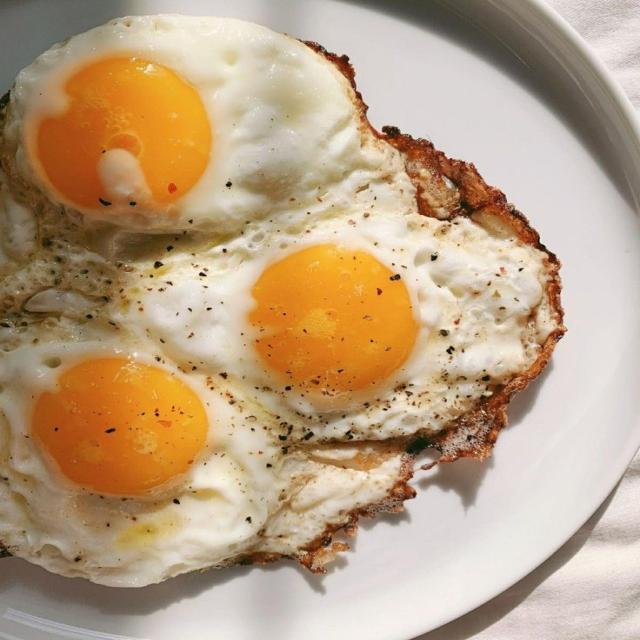fryed egg: (0, 16, 563, 586), (4, 16, 387, 233)
